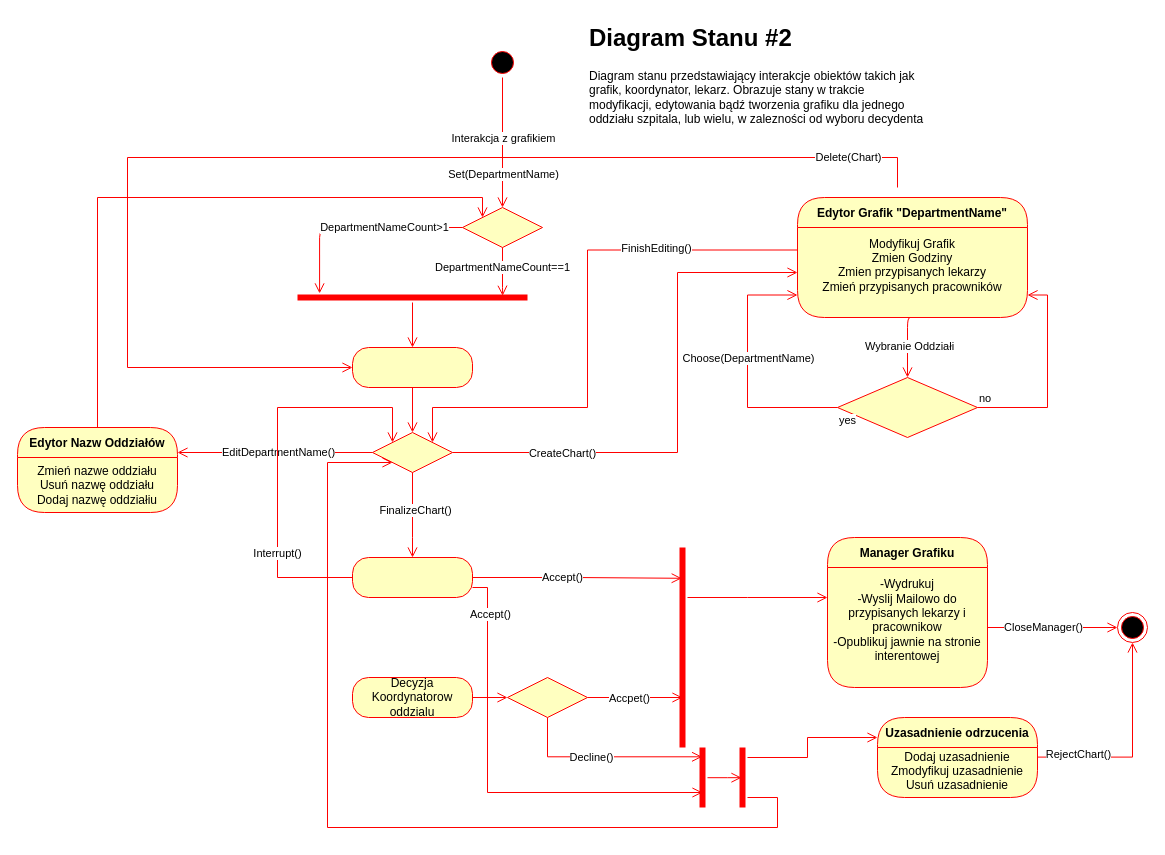
The diagram is 1165 pixels wide and 855 high, and some of its shapes have lost their labels. The shapes that lost their labels are listed below. From the top down, each one's centre as x and y in pixels, then its label:
At (x=412, y=367): "Pusty Grafik".
At (x=907, y=407): "DepartmentCount>1".
At (x=412, y=577): "Finalizacja Grafiku".
